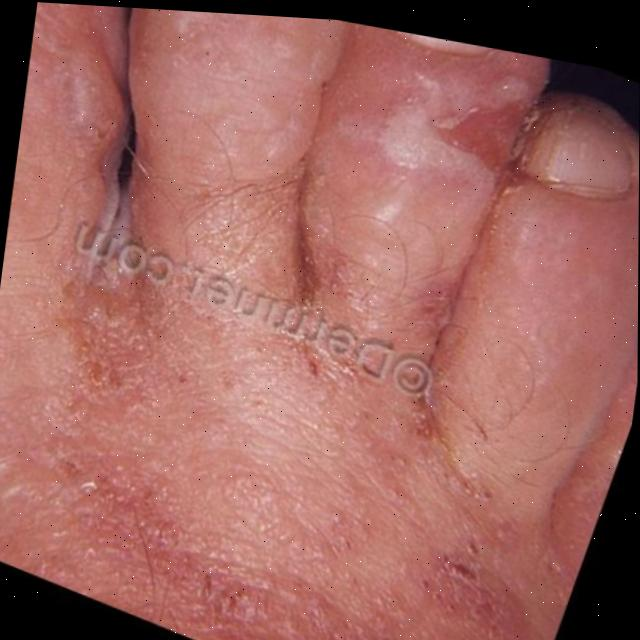Eczema: (55, 45, 579, 640)
